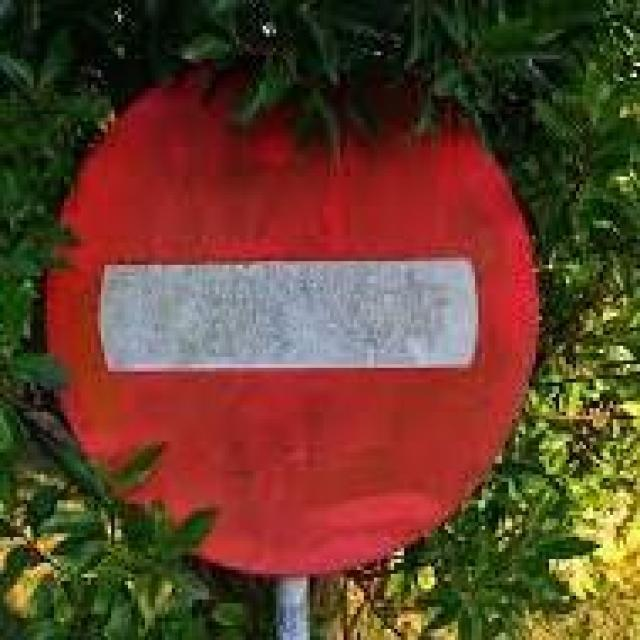obstructed_road_sign: (48, 42, 538, 576)
